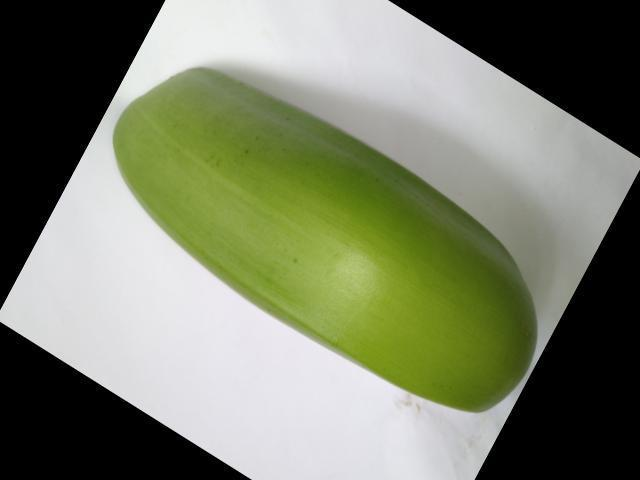freshunripe: (104, 49, 554, 419)
